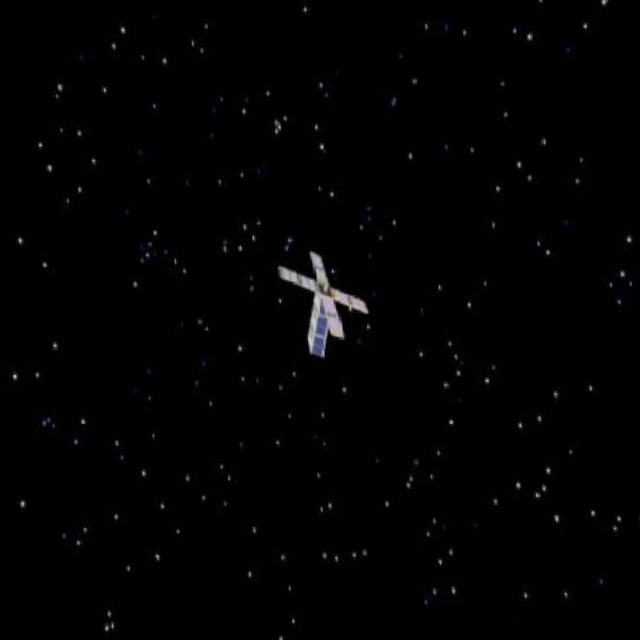satellite: (265, 233, 377, 364)
